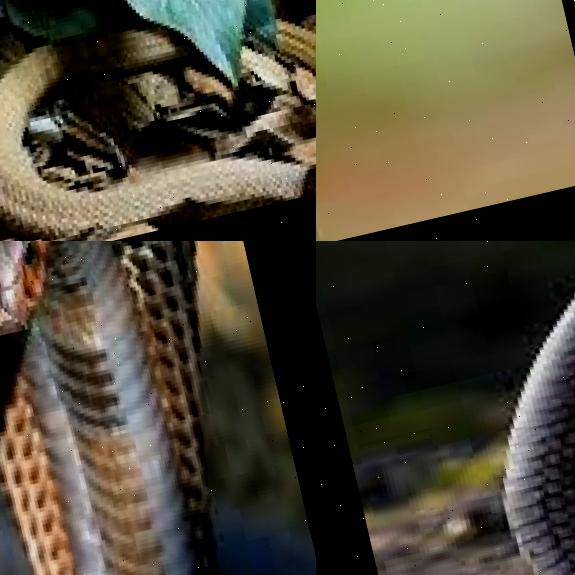snake: (0, 241, 293, 575), (324, 241, 575, 575), (0, 0, 316, 241), (316, 0, 575, 241)
